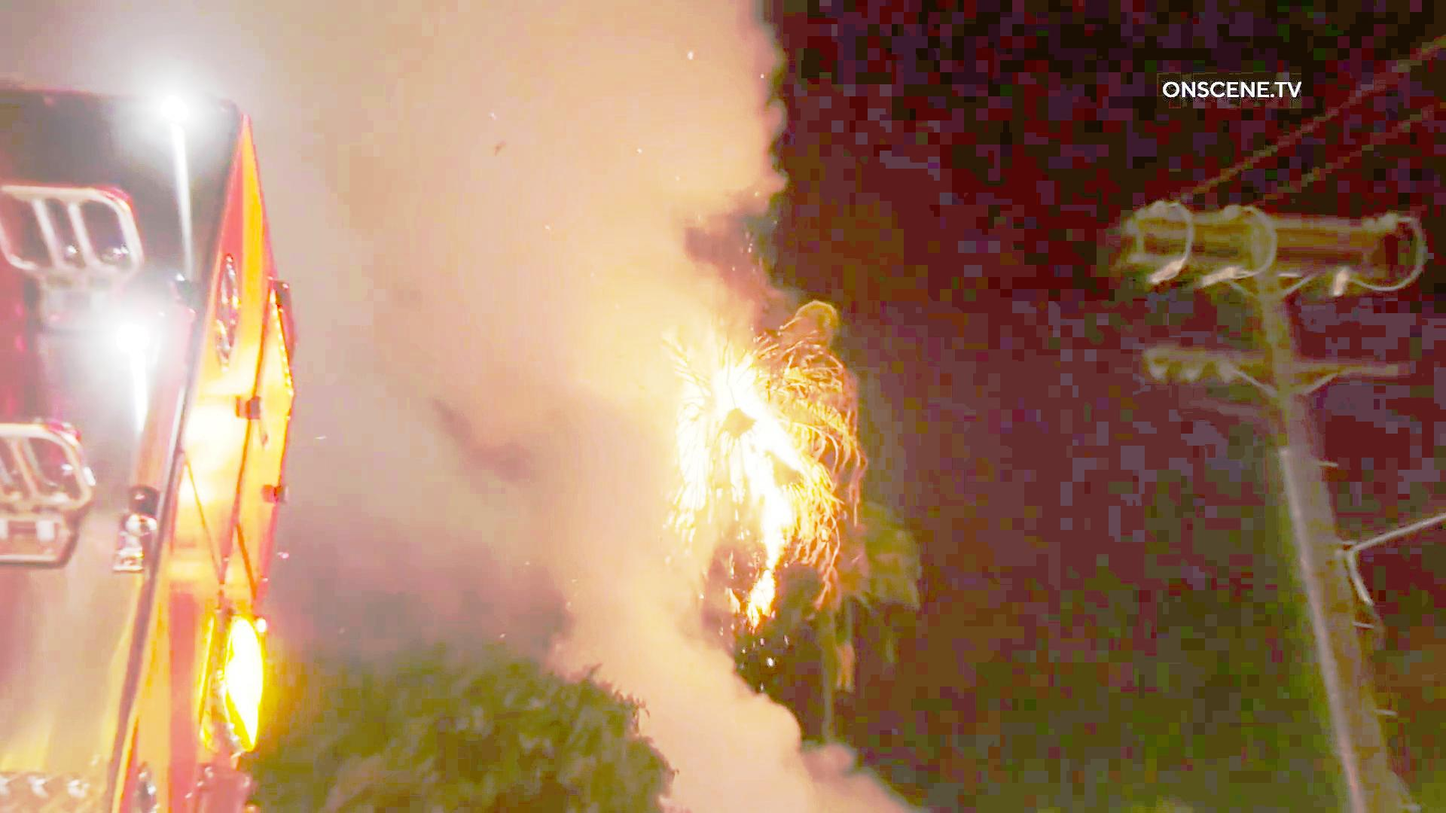fire: (654, 346, 807, 569)
smoke: (296, 25, 641, 636), (328, 0, 720, 395)
